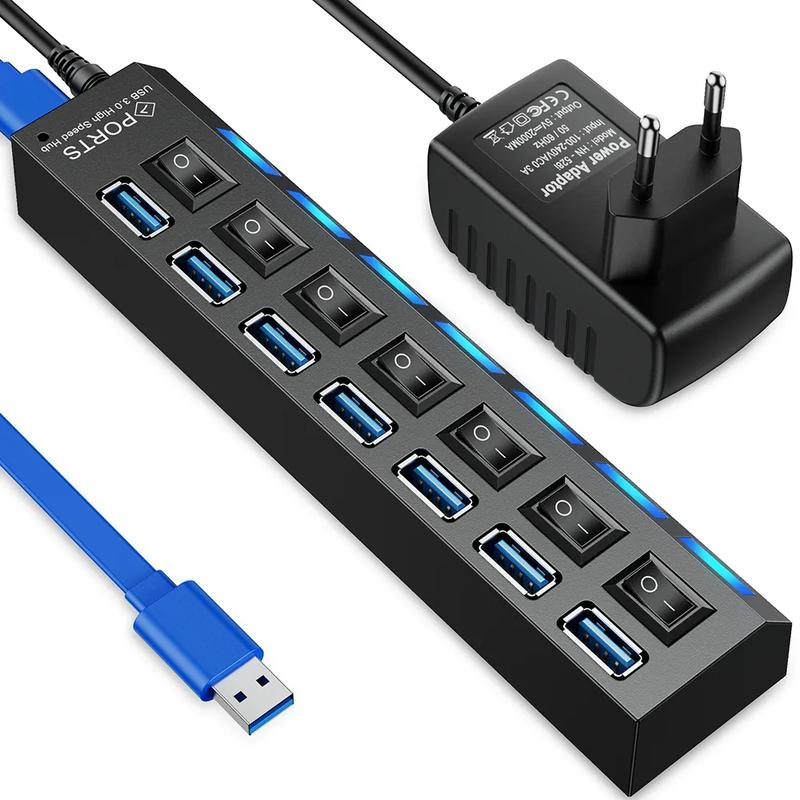USB: (557, 600, 640, 683), (90, 166, 171, 245), (240, 304, 312, 374), (483, 528, 545, 604), (400, 455, 466, 525), (171, 241, 236, 309), (328, 380, 382, 448)
